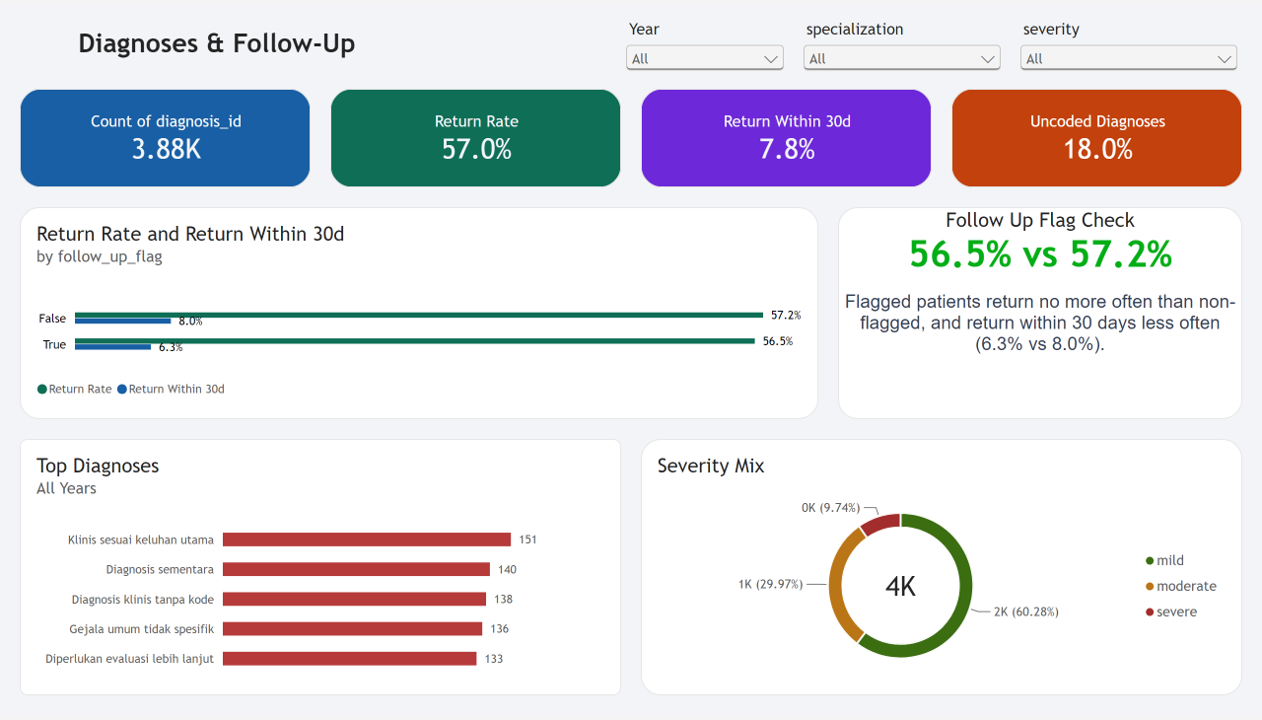

This screenshot's page, from the dashboard's own definition file:
{"tool":"powerbi","page":{"name":"Diagnoses & Follow Up","canvas":[1280,720],"ordinal":2},"visuals":[{"type":"textbox","box":[20,23,400,40],"z":0},{"type":"slicer","fields":{"Values":["Calendar.Year"]},"box":[630,15,170,60],"z":1000},{"type":"slicer","fields":{"Values":["doctors.specialization"]},"box":[810,15,210,60],"z":2000},{"type":"slicer","fields":{"Values":["diagnoses.severity"]},"box":[1030,15,230,60],"z":3000},{"type":"cardVisual","fields":{"Data":["diagnoses.Count of diagnosis_id"]},"box":[20,85,295,100],"z":4000},{"type":"cardVisual","fields":{"Data":["appointments.Return Rate"]},"box":[335,85,295,100],"z":5000},{"type":"cardVisual","fields":{"Data":["appointments.Return Within 30d"]},"box":[650,85,295,100],"z":6000},{"type":"cardVisual","fields":{"Data":["diagnoses.Uncode Rate"]},"box":[965,85.5,295,100],"z":7000},{"type":"clusteredBarChart","fields":{"Category":["appointments.follow_up_flag"],"Y":["appointments.Return Rate","appointments.Return Within 30d"]},"box":[20,205,810,215],"z":8000},{"type":"textbox","title":"Follow Up Flag Check","box":[850,205,410,215],"z":9000},{"type":"barChart","title":"Top Diagnoses","fields":{"Category":["diagnoses.description"],"Y":["appointments.Diagnostic Count"]},"box":[20,440,610,260],"z":10000},{"type":"donutChart","title":"Severity Mix","fields":{"Category":["diagnoses.severity"],"Y":["appointments.Diagnostic Count"]},"box":[650,440,610,260],"z":11000}]}

Visuals, with their boxes in screenshot pixels (x1, y1, x2, y2), scaled from the page's 1280x720 canvas onto the 1262x720 screenshot:
textbox: {"left": 20, "top": 23, "right": 414, "bottom": 63}
slicer - Calendar.Year: {"left": 621, "top": 15, "right": 789, "bottom": 75}
slicer - doctors.specialization: {"left": 799, "top": 15, "right": 1006, "bottom": 75}
slicer - diagnoses.severity: {"left": 1016, "top": 15, "right": 1242, "bottom": 75}
cardVisual - diagnoses.Count of diagnosis_id: {"left": 20, "top": 85, "right": 311, "bottom": 185}
cardVisual - appointments.Return Rate: {"left": 330, "top": 85, "right": 621, "bottom": 185}
cardVisual - appointments.Return Within 30d: {"left": 641, "top": 85, "right": 932, "bottom": 185}
cardVisual - diagnoses.Uncode Rate: {"left": 951, "top": 86, "right": 1242, "bottom": 186}
clusteredBarChart - appointments.follow_up_flag x appointments.Return Rate: {"left": 20, "top": 205, "right": 818, "bottom": 420}
"Follow Up Flag Check" textbox: {"left": 838, "top": 205, "right": 1242, "bottom": 420}
"Top Diagnoses" barChart: {"left": 20, "top": 440, "right": 621, "bottom": 700}
"Severity Mix" donutChart: {"left": 641, "top": 440, "right": 1242, "bottom": 700}
